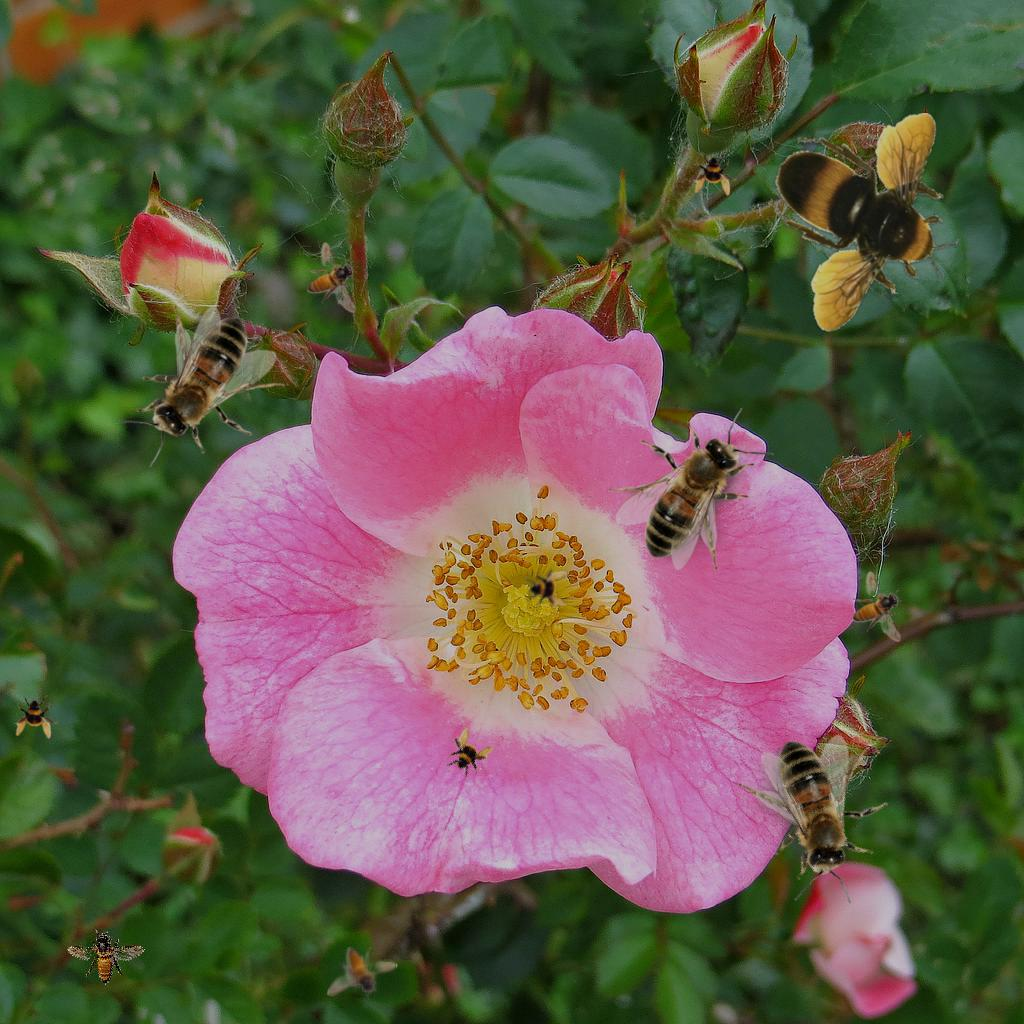Bee: (703, 697, 934, 929), (768, 113, 959, 333), (118, 305, 285, 467), (607, 408, 774, 570), (60, 919, 146, 994), (436, 722, 498, 784), (327, 947, 398, 997), (307, 242, 357, 313), (852, 571, 902, 642), (523, 563, 571, 611), (693, 152, 737, 196), (14, 695, 58, 739)
